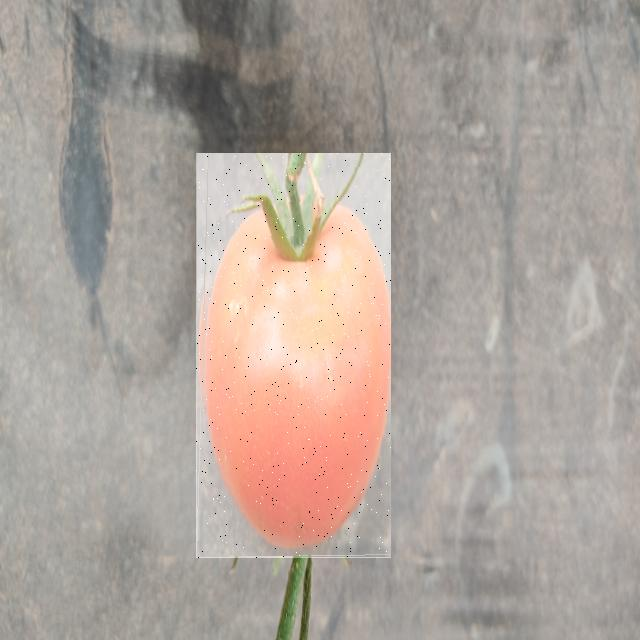Ripe Tomato: (196, 153, 391, 558)
